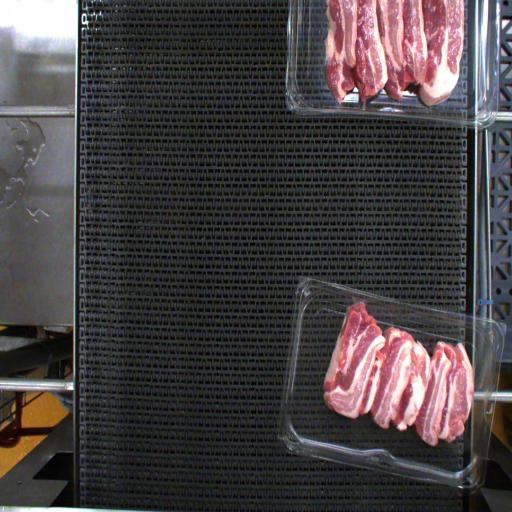packaging-error: (346, 291, 372, 316)
